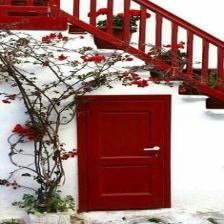red: (0, 0, 223, 101), (78, 95, 171, 212)
